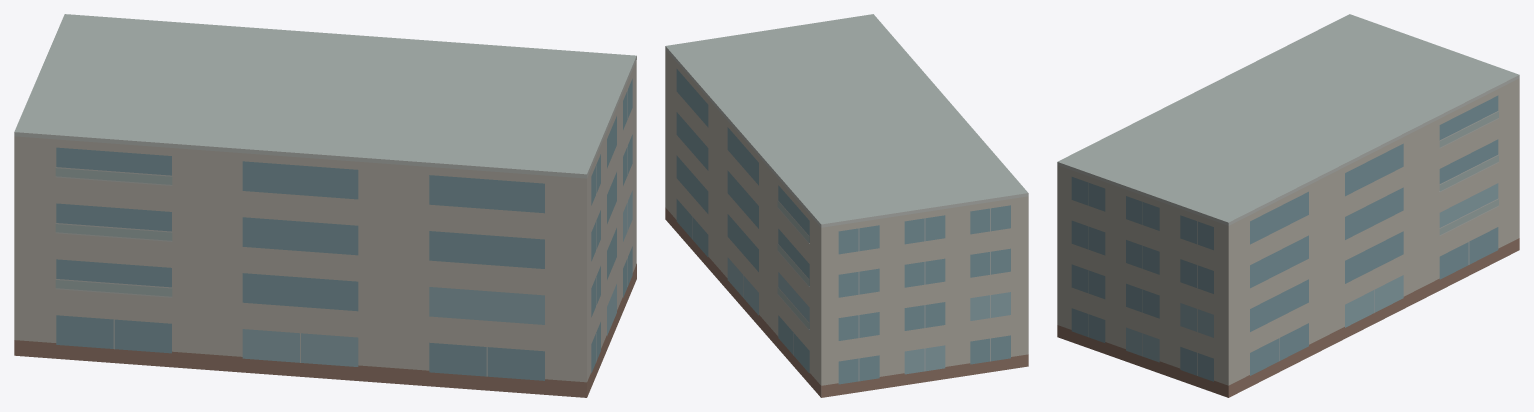
File: survey-upis-32716199.glb
3 renders of one model, left to right at view 1: azimuth 30°, elevation 25°; view 2: azimuth 150°, elevation 25°; view 3: azimuth 270°, elevation 25°, orthographic. The views are drawn at different scales.
Parts seen in each view (by area): view 1: survey-upis-32716199.tmp; view 2: survey-upis-32716199.tmp; view 3: survey-upis-32716199.tmp.
Boxes of the visible parts, x1,y1,x2,y2 form: survey-upis-32716199.tmp: (14,14,636,397); survey-upis-32716199.tmp: (665,14,1028,397); survey-upis-32716199.tmp: (1057,14,1519,397).
Bounding box in the file's own units: 32.68 × 12.8 × 30.61.
